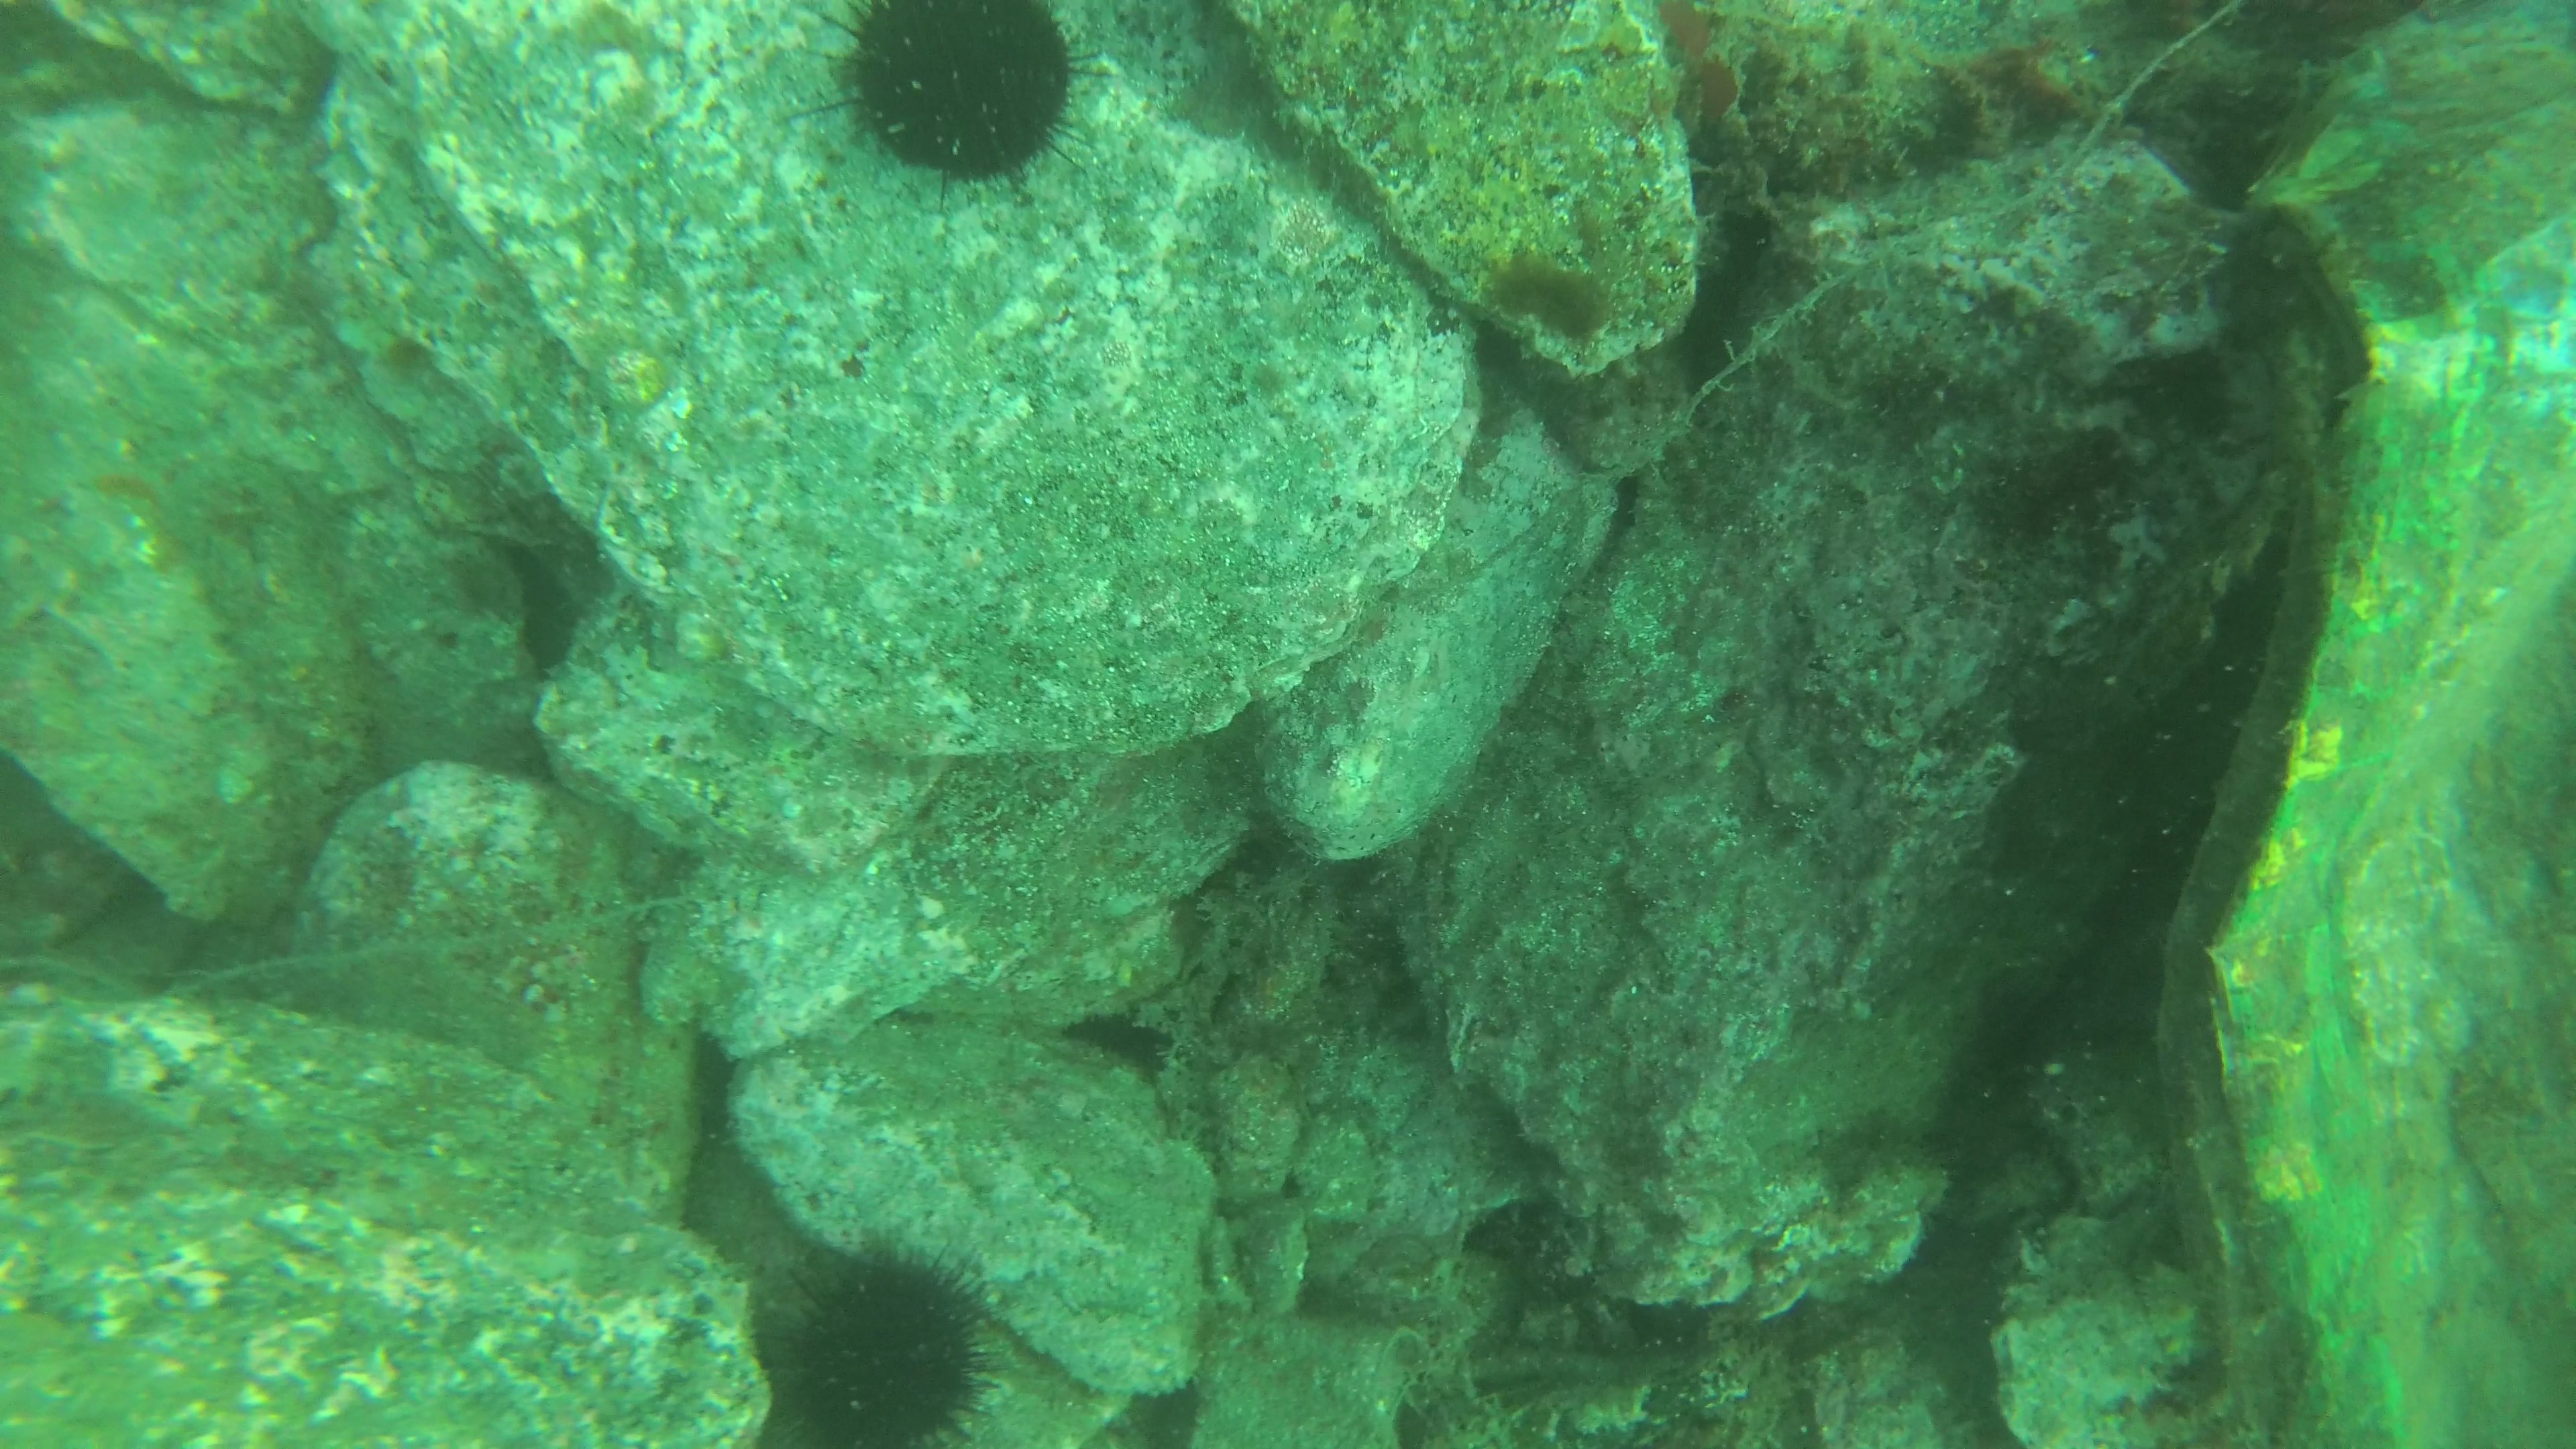echinus: (803, 5, 1120, 225), (757, 1244, 1012, 1447)
